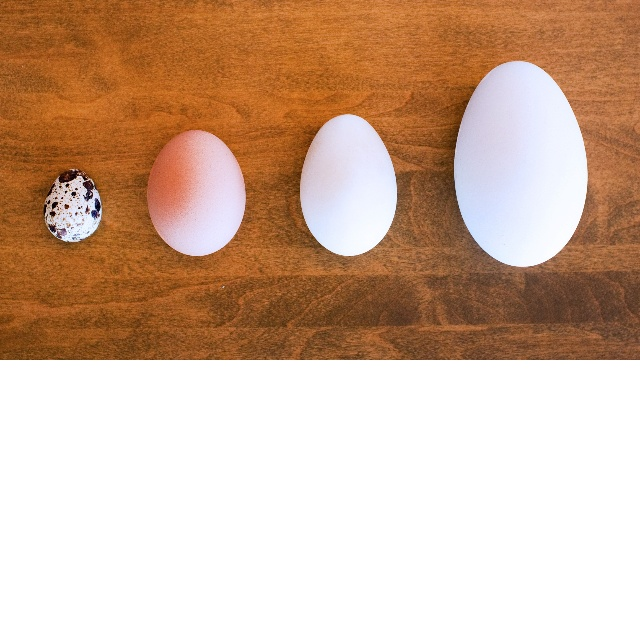trung_ga: (143, 127, 247, 260)
